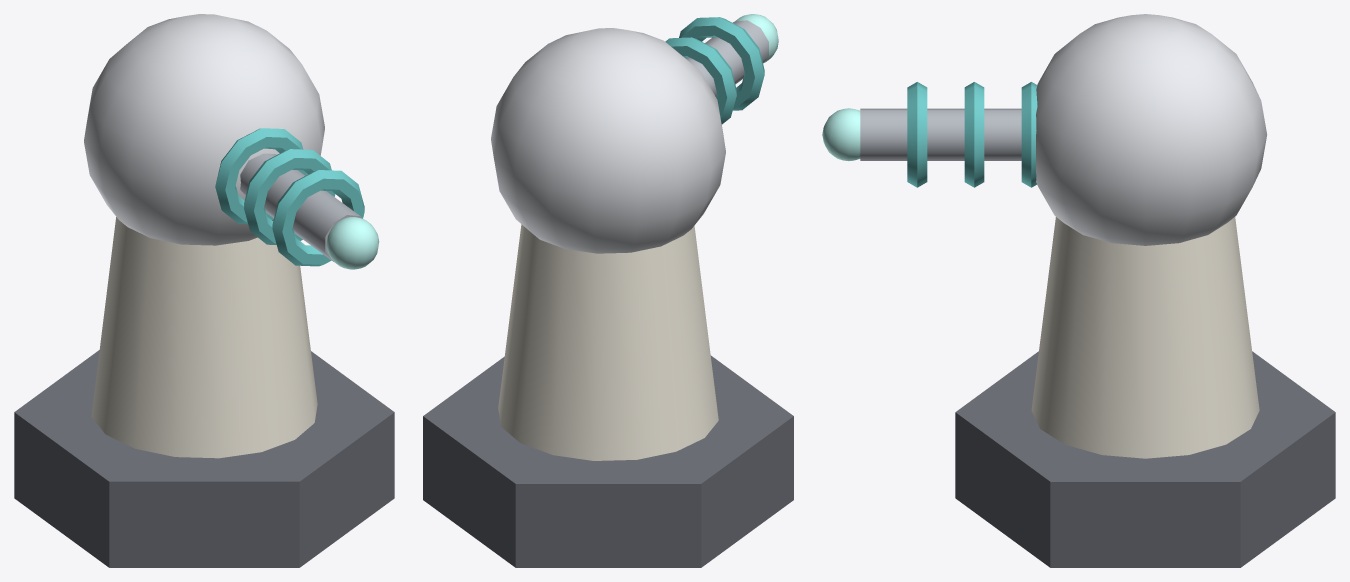
The model's file is ic_turret.glb.
3 views of the same model, side by side, from view 1: azimuth 30°, elevation 25°; view 2: azimuth 150°, elevation 25°; view 3: azimuth 270°, elevation 25° (orthographic). The views are drawn at different scales.
Visible parts, largest first — view 1: ic_turret; view 2: ic_turret; view 3: ic_turret.
Part boxes in pixels (x1,y1,x2,y2): ic_turret: (14,14,394,567); ic_turret: (423,14,793,567); ic_turret: (822,14,1335,567).
Bounding box in the file's own units: 0.866 × 1.37 × 1.35.
